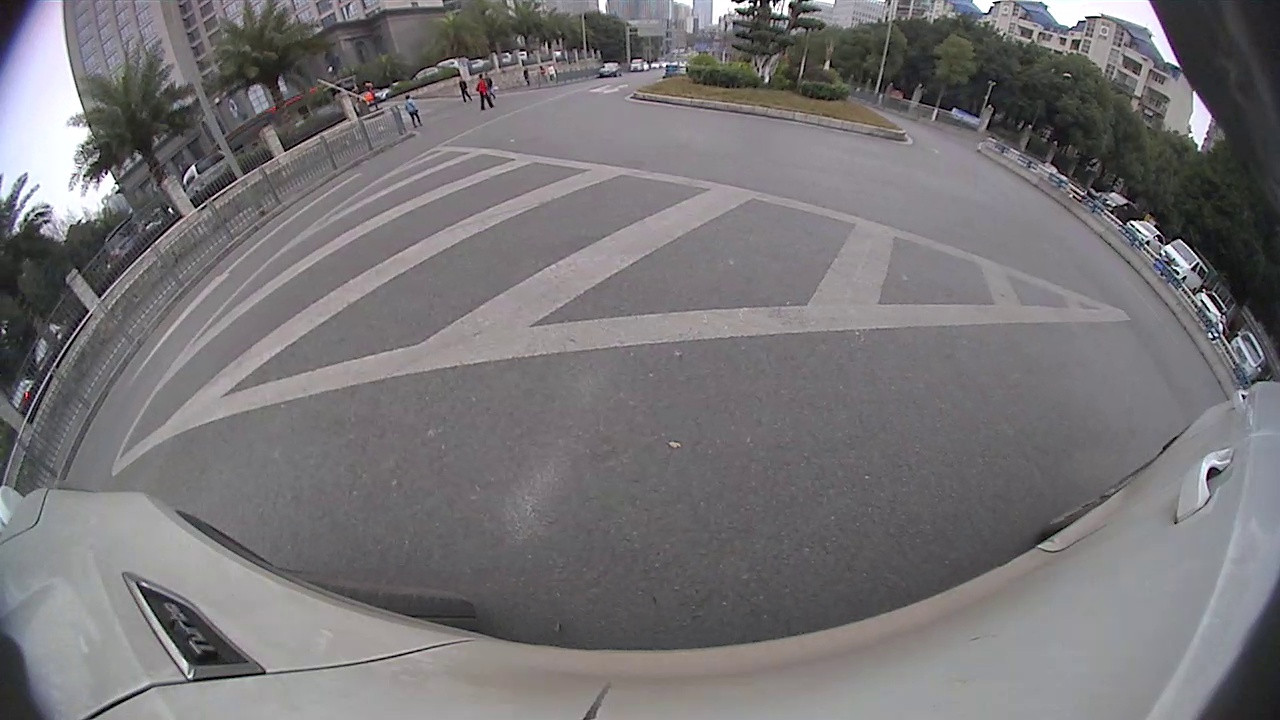car: (1155, 235, 1213, 295), (1221, 326, 1266, 384), (1189, 291, 1233, 334)
